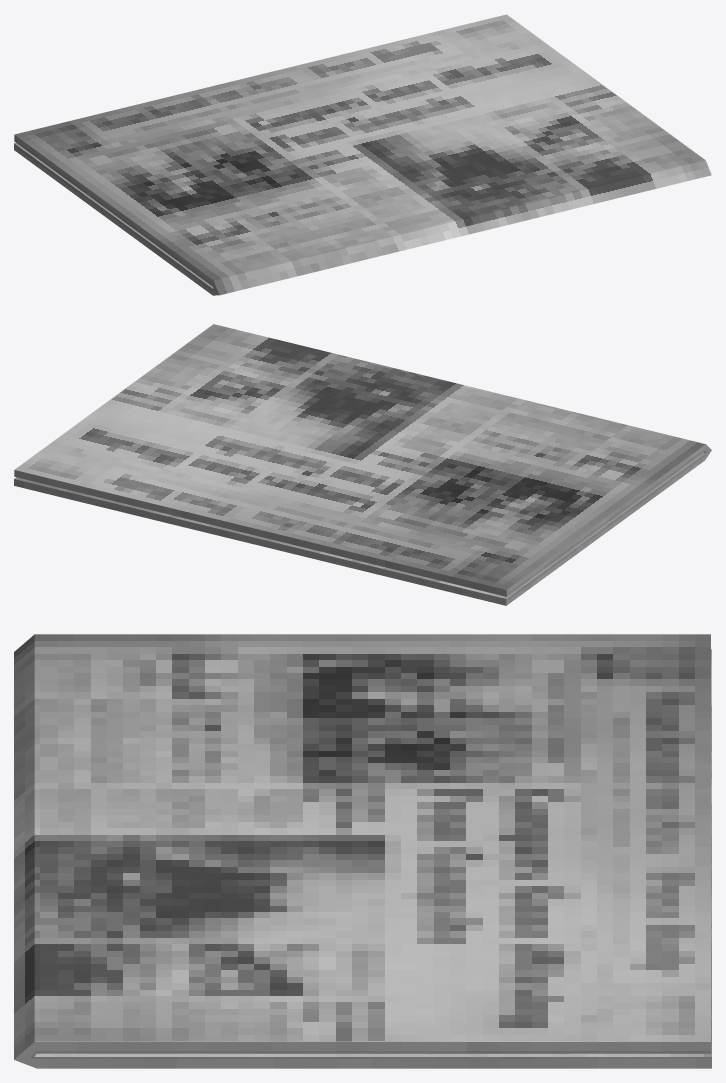
The model's file is newspaper_folded.glb.
3 renders of one model, top to bottom at view 1: azimuth 30°, elevation 25°; view 2: azimuth 150°, elevation 25°; view 3: azimuth 270°, elevation 25°, orthographic. The views are drawn at different scales.
Visible parts, largest first — view 1: Cube; view 2: Cube; view 3: Cube.
Part boxes in pixels (x1,y1,x2,y2): Cube: (14,14,711,295); Cube: (14,324,711,605); Cube: (14,634,711,1068).
Size of the model in its own units: 0.5072 by 0.0155 by 0.3669.
1 material, 1 textured.
